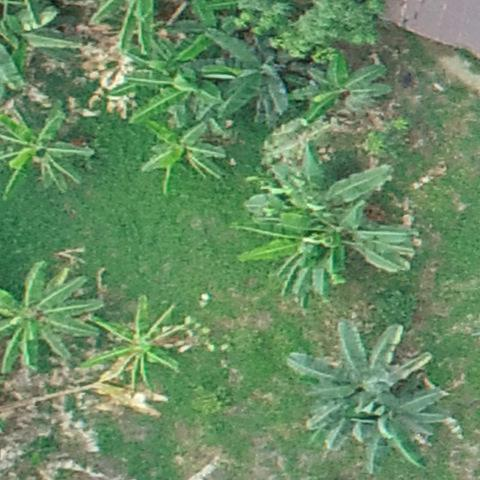Banana-plant: (246, 204, 414, 299), (285, 317, 434, 419), (251, 144, 409, 230), (0, 255, 94, 376), (316, 392, 456, 465), (91, 298, 191, 400), (0, 106, 102, 205), (203, 22, 299, 118), (121, 34, 228, 119), (136, 121, 232, 194), (295, 56, 392, 121), (0, 0, 79, 60)
